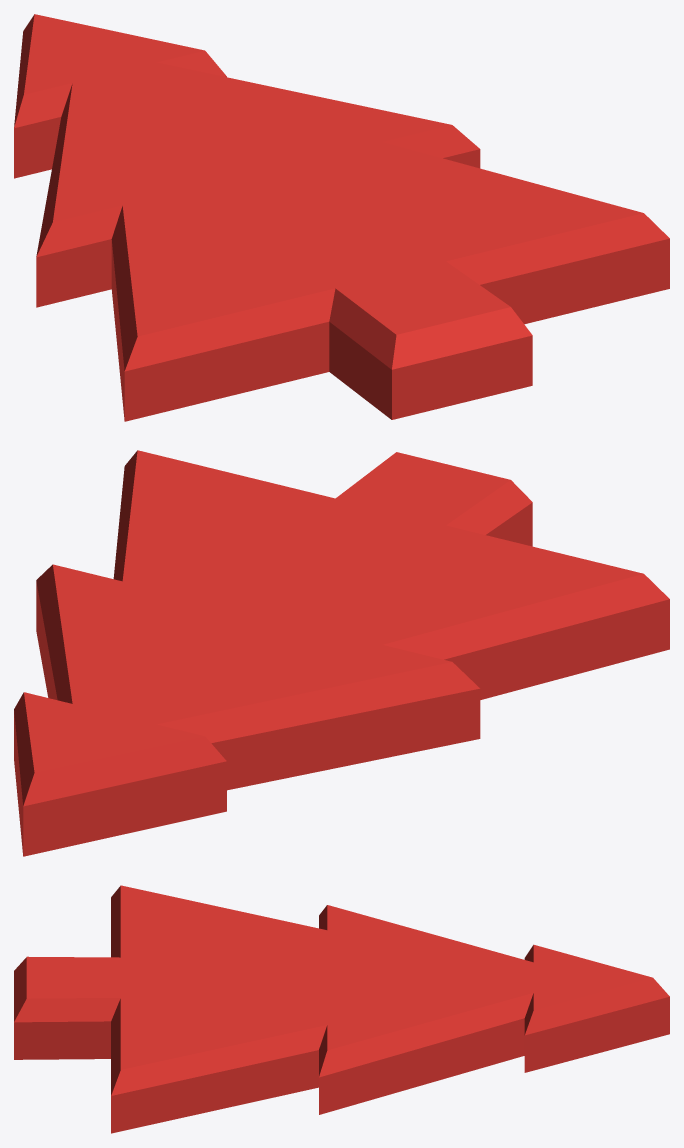
Rendered from SM_Gingerbread_Tree_B.fbx.
3 views of the same model, one above another, from view 1: azimuth 30°, elevation 25°; view 2: azimuth 150°, elevation 25°; view 3: azimuth 270°, elevation 25° (orthographic). The views are drawn at different scales.
Visible parts, largest first — view 1: gingerbread-tree-b; view 2: gingerbread-tree-b; view 3: gingerbread-tree-b.
Part boxes in pixels (x1,y1,x2,y2): gingerbread-tree-b: [14, 14, 669, 421]; gingerbread-tree-b: [14, 450, 669, 856]; gingerbread-tree-b: [14, 885, 669, 1133].
Bounding box in the file's own units: 0.0495 × 0.00656 × 0.069.
